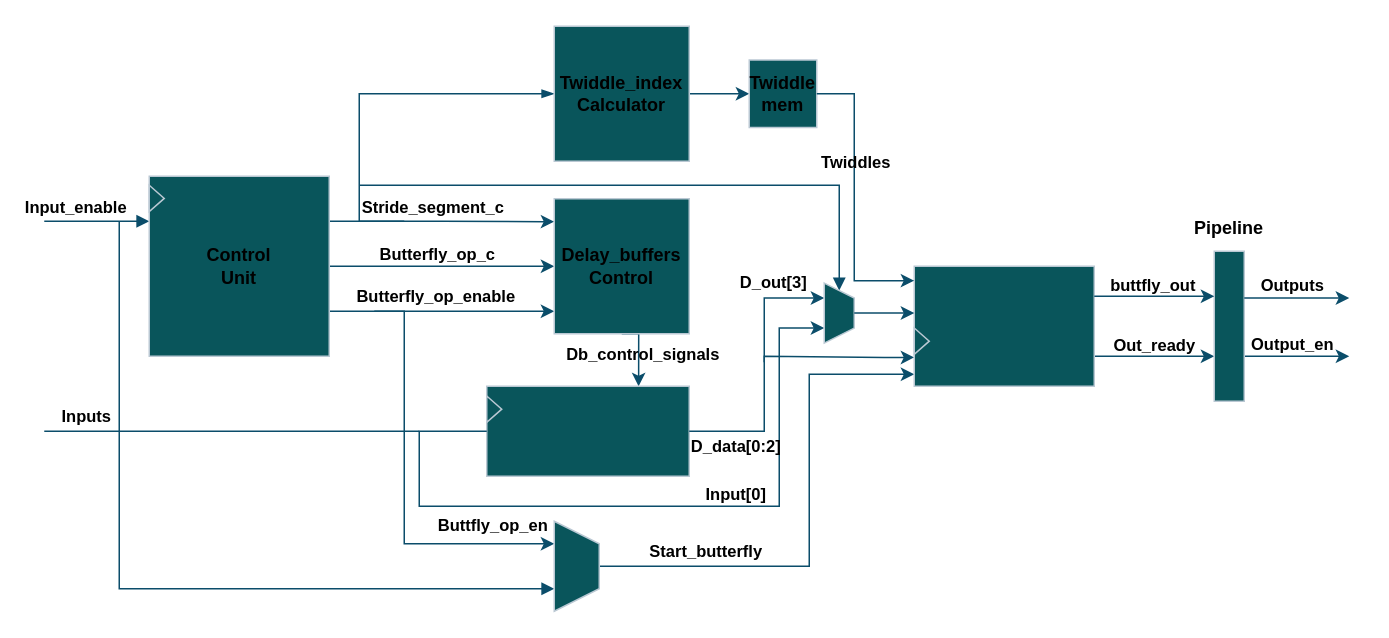
Image size: 1389x638. Some labels were removed from this diagram. Each missing label, with the box of its shape:
Butterfly: (913, 265, 1094, 386)
Delay_buffers Memory: (485, 385, 689, 476)
